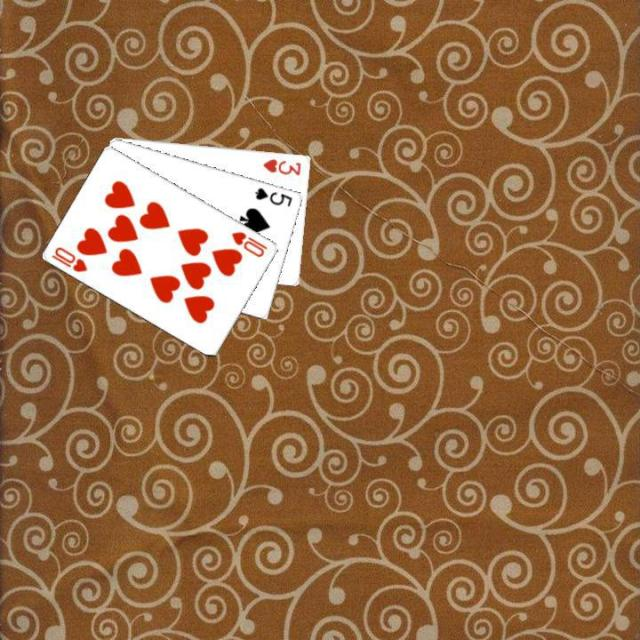10H: (48, 242, 90, 274), (228, 228, 270, 258)
3H: (260, 155, 303, 177)
5S: (252, 183, 294, 208)
